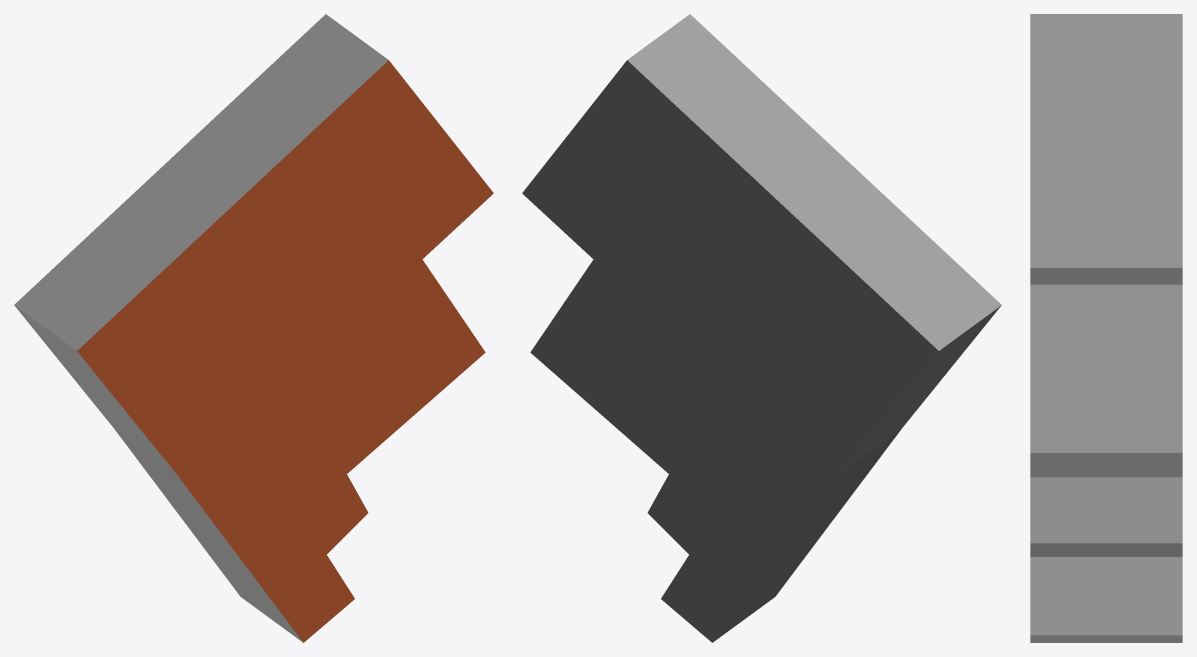
Rendered from construction_4504_assumed_A_Casa_h6m.obj.
3 views of the same model, side by side, from view 1: azimuth 30°, elevation 25°; view 2: azimuth 150°, elevation 25°; view 3: azimuth 270°, elevation 25° (orthographic). The views are drawn at different scales.
Visible parts, largest first — view 1: construction_4504_assumed_A_Casa; view 2: construction_4504_assumed_A_Casa; view 3: construction_4504_assumed_A_Casa.
Part boxes in pixels (x1=…): construction_4504_assumed_A_Casa: x1=14, y1=14, x2=493, y2=642; construction_4504_assumed_A_Casa: x1=522, y1=14, x2=1001, y2=642; construction_4504_assumed_A_Casa: x1=1030, y1=14, x2=1182, y2=642.
Size of the model in its own units: 22.93 by 29.53 by 6.
